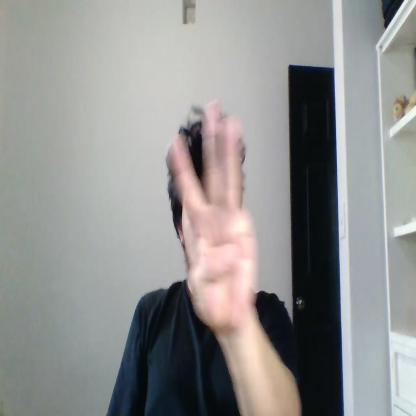W: (168, 99, 259, 330)
